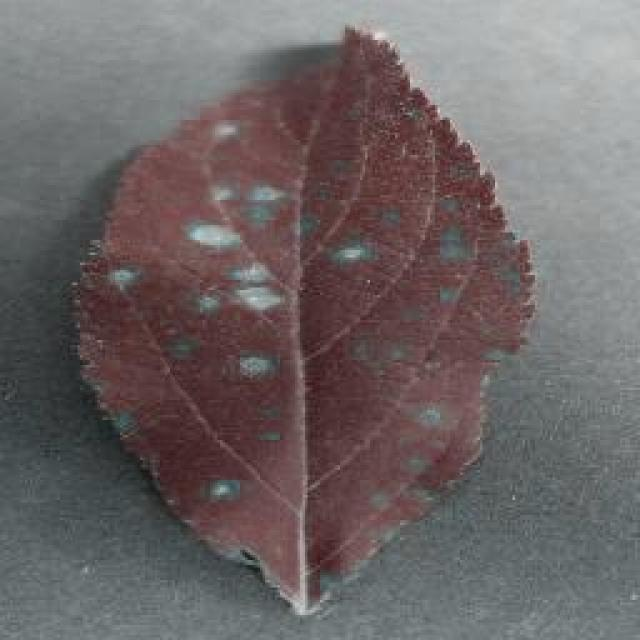apple cedar apple rust: (68, 23, 538, 615)
